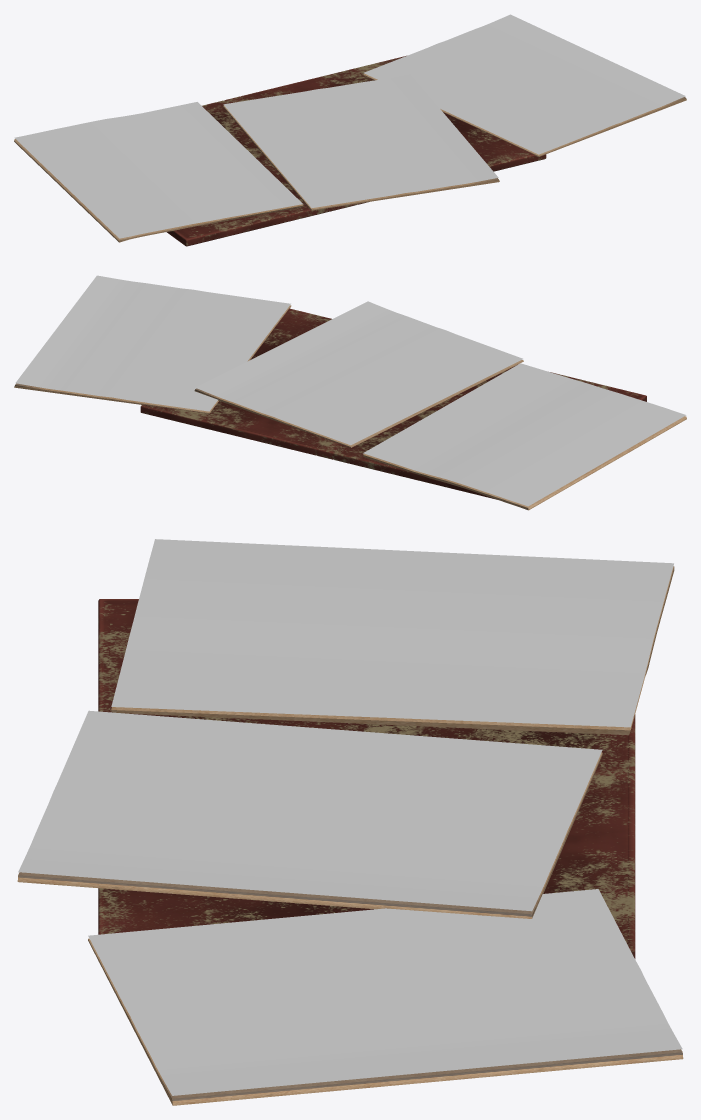
Rendered from contractBooklet_meshes.fbx.
3 views of the same model, one above another, from view 1: azimuth 30°, elevation 25°; view 2: azimuth 150°, elevation 25°; view 3: azimuth 270°, elevation 25° (orthographic). The views are drawn at different scales.
Parts seen in each view (by area): view 1: Geo_contractPage_02, Geo_contractPage_04, Geo_contractPage_03, Geo_contractBooklet; view 2: Geo_contractPage_02, Geo_contractPage_04, Geo_contractPage_03, Geo_contractBooklet; view 3: Geo_contractPage_02, Geo_contractPage_04, Geo_contractPage_03, Geo_contractBooklet.
Boxes of the visible parts, x1,y1,x2,y2 form: Geo_contractPage_02: (14,102,303,242); Geo_contractPage_04: (223,74,499,210); Geo_contractPage_03: (363,14,686,156); Geo_contractBooklet: (166,55,546,246); Geo_contractPage_02: (363,363,686,510); Geo_contractPage_04: (194,301,523,447); Geo_contractPage_03: (14,275,291,413); Geo_contractBooklet: (140,308,646,499); Geo_contractPage_02: (111,539,674,735); Geo_contractPage_04: (17,710,602,918); Geo_contractPage_03: (88,889,683,1105); Geo_contractBooklet: (98,599,635,958).
Bounding box in the file's own units: 128 × 2.72 × 64.32.
